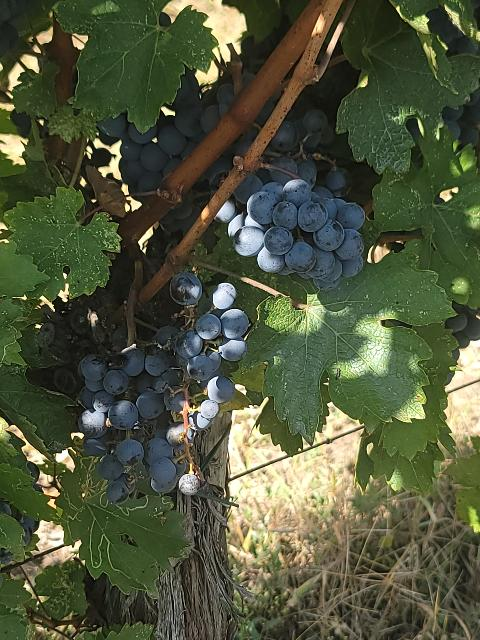grapes: (152, 272, 250, 492), (78, 344, 186, 502), (229, 174, 365, 290)
